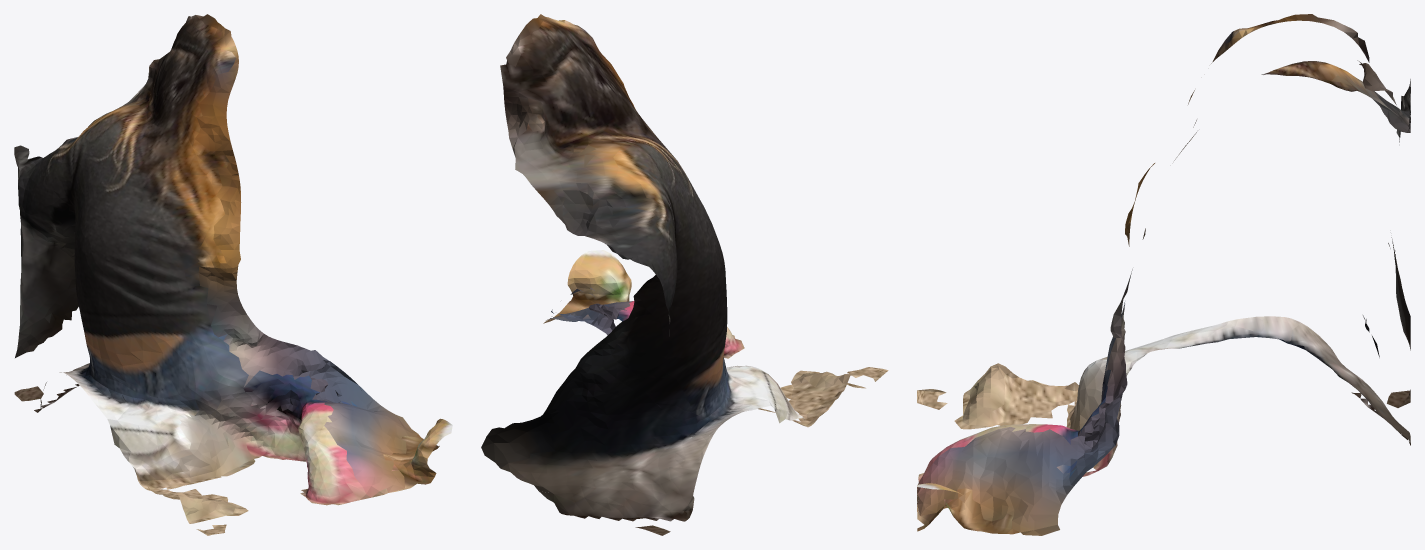
3 views of the same model, side by side, from view 1: azimuth 30°, elevation 25°; view 2: azimuth 150°, elevation 25°; view 3: azimuth 270°, elevation 25° (orthographic). The views are drawn at different scales.
Bounding box in the file's own units: 0.5803 × 0.8233 × 0.7755.
Materials: 1 (1 with a texture image).
